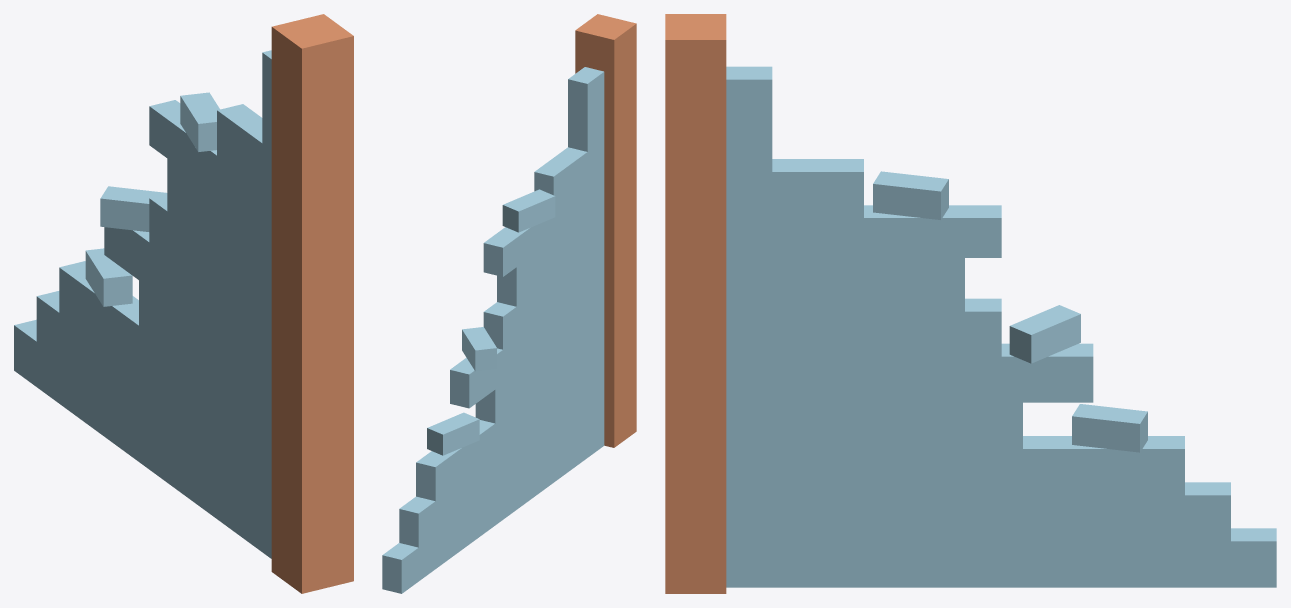
Rendered from wallBroken.dae.
The picture shows the model from 3 angles, left to right: view 1: azimuth 30°, elevation 25°; view 2: azimuth 150°, elevation 25°; view 3: azimuth 270°, elevation 25°; orthographic projection. The views are drawn at different scales.
Parts seen in each view (by area): view 1: wallBroken; view 2: wallBroken; view 3: wallBroken.
Part boxes in pixels (x1,y1,x2,y2): wallBroken: [14, 14, 353, 593]; wallBroken: [382, 14, 636, 593]; wallBroken: [665, 14, 1276, 593].
Size of the model in its own units: 0.1168 by 1 by 1.
